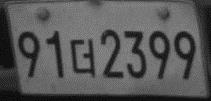1: (44, 29, 65, 78)
2: (99, 28, 124, 78)
3: (123, 29, 147, 78)
9: (173, 29, 196, 79), (17, 30, 40, 78), (148, 29, 170, 79)
더: (69, 37, 96, 78)
